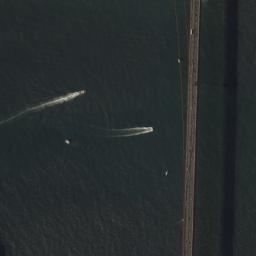boat: (64, 138, 70, 144), (79, 89, 86, 93), (164, 169, 168, 174), (177, 58, 180, 62), (149, 128, 153, 129)
